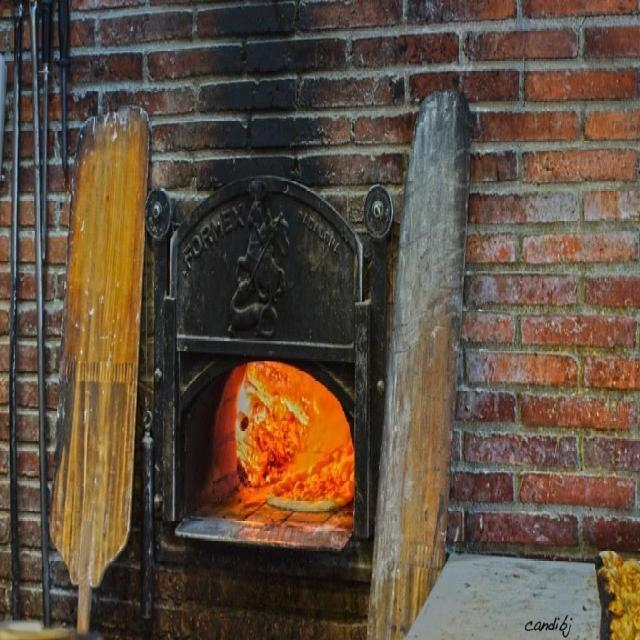fire: (235, 362, 310, 486)
